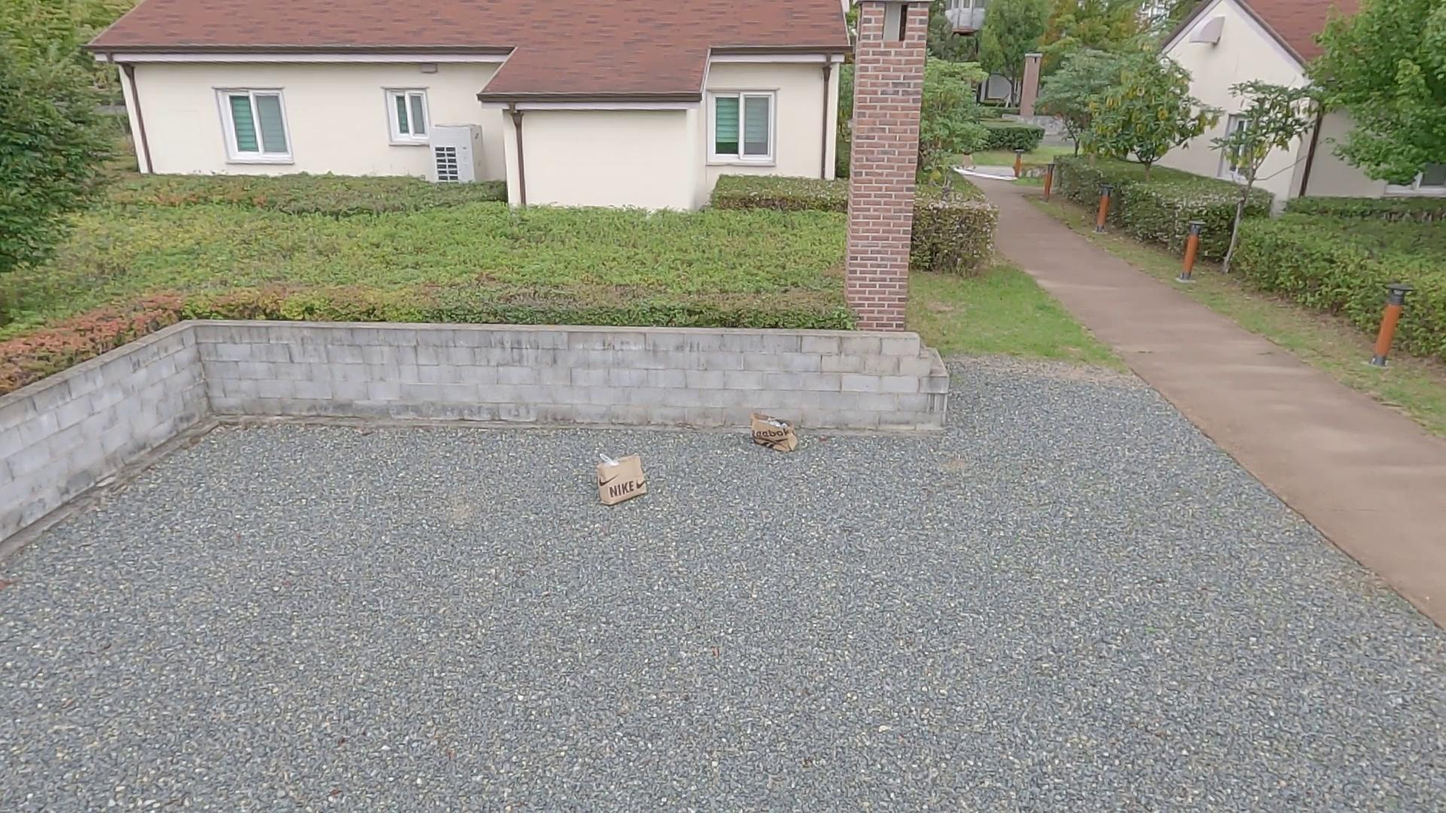trash: (591, 448, 647, 508), (749, 405, 802, 449)
